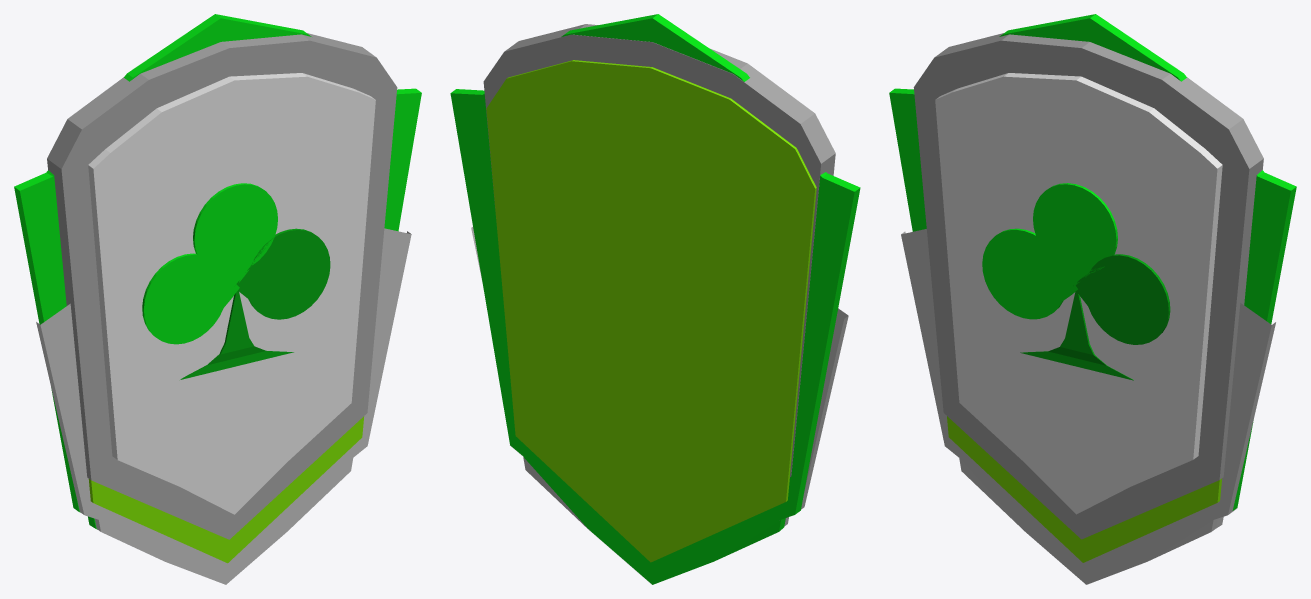
The model's file is Shield_Black_2.fbx.
The picture shows the model from 3 angles, left to right: view 1: azimuth 30°, elevation 25°; view 2: azimuth 150°, elevation 25°; view 3: azimuth 330°, elevation 25°; orthographic projection.
Parts seen in each view (by area): view 1: Cube.012, Cube.015, Cube.011, Cube.014, Cube.010, Cylinder.008, Cylinder.006, Cylinder.007, Cube.013; view 2: Cube.010, Cube.014, Cube.015, Cube.011; view 3: Cube.012, Cube.015, Cube.011, Cube.014, Cube.010, Cylinder.007, Cylinder.008, Cylinder.006, Cube.013.
Part boxes in pixels (x1,y1,x2,y2): Cube.012: (88, 73, 375, 514); Cube.015: (47, 33, 397, 539); Cube.011: (36, 228, 411, 584); Cube.014: (14, 14, 421, 529); Cube.010: (88, 416, 364, 563); Cylinder.008: (142, 253, 239, 344); Cylinder.006: (193, 183, 277, 283); Cylinder.007: (236, 228, 330, 319); Cube.013: (180, 290, 293, 379); Cube.010: (486, 60, 816, 562); Cube.014: (450, 14, 860, 584); Cube.015: (483, 24, 835, 476); Cube.011: (471, 227, 848, 584); Cube.012: (935, 73, 1222, 514); Cube.015: (913, 33, 1263, 539); Cube.011: (901, 229, 1275, 584); Cube.014: (889, 14, 1296, 510); Cube.010: (947, 416, 1221, 562); Cylinder.007: (1073, 254, 1170, 344); Cylinder.008: (982, 228, 1077, 319); Cylinder.006: (1033, 183, 1117, 285); Cube.013: (1020, 291, 1133, 380).
Bounding box in the file's own units: 614 × 822 × 60.87.
